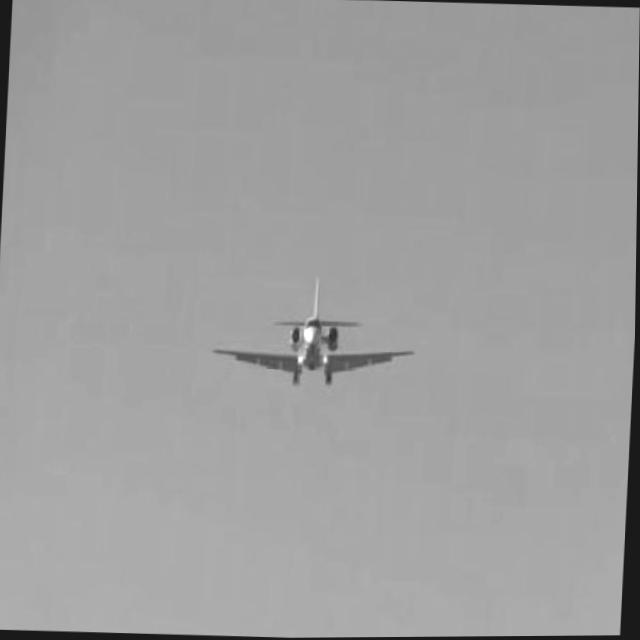aeroplane: (211, 274, 417, 390)
